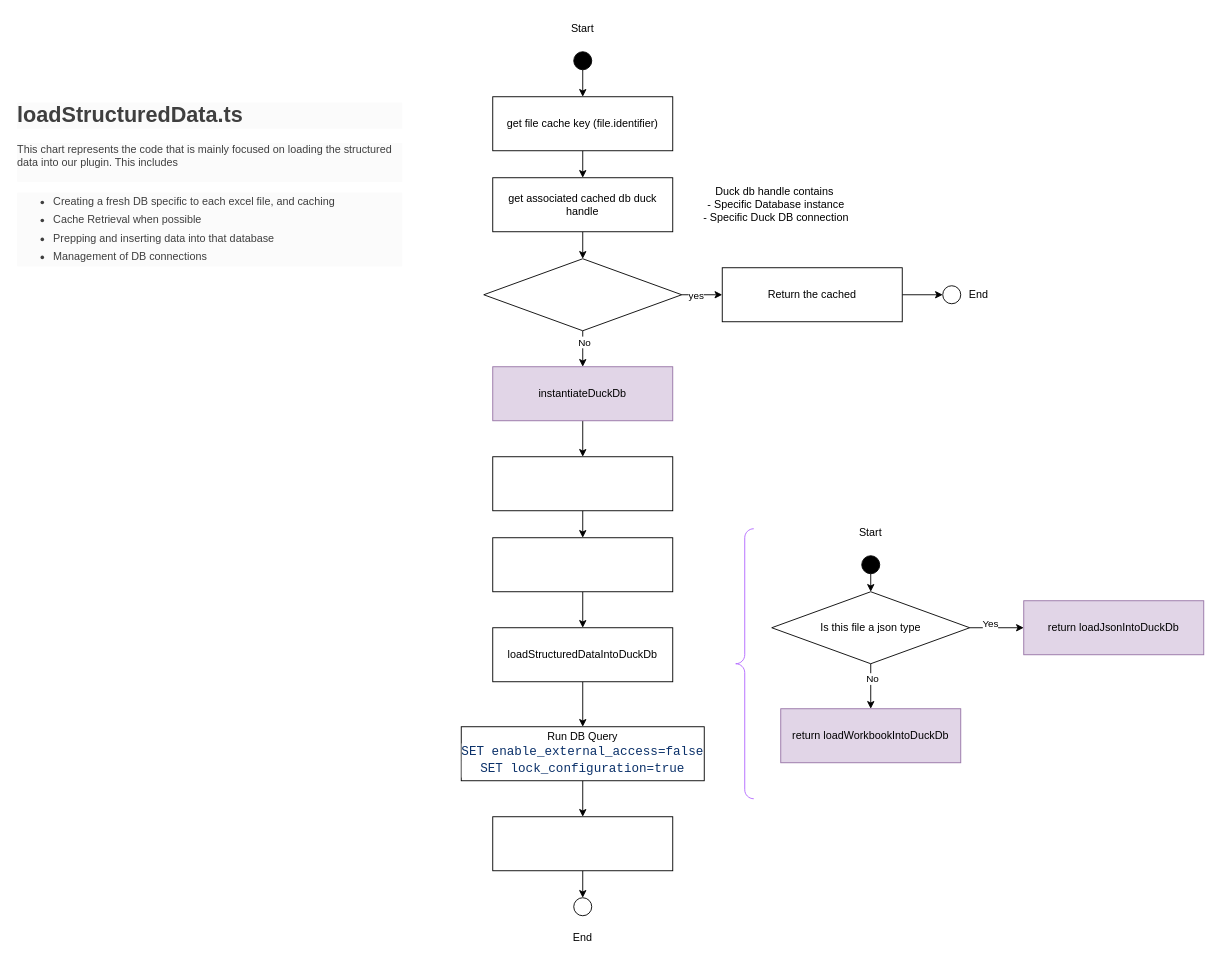
Image size: 1220x967. Some labels were removed from this diagram. The centre of each missing label's shape, as x and y in pixels:
"cacheDb(key, handle)" goes at (582,843).
"Create a DB connection" goes at (582,483).
"Create A duck DB handle (i.e. a cache object)" goes at (582,564).
"is there anything retrieved from cached" goes at (582,294).
